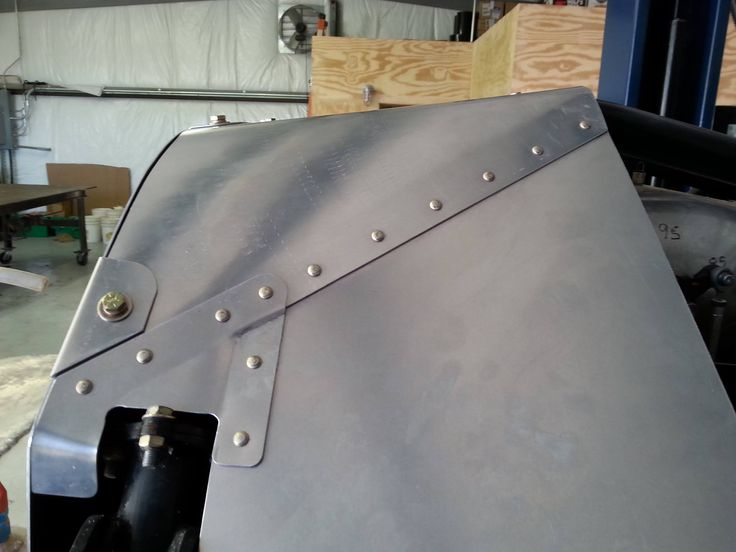bolt: (96, 288, 134, 326), (141, 399, 179, 424), (206, 110, 230, 129), (719, 265, 736, 290)
rivet: (212, 306, 233, 327), (244, 351, 265, 372), (74, 376, 95, 397), (231, 429, 252, 449), (135, 346, 154, 366), (369, 227, 388, 246), (305, 261, 324, 279), (257, 284, 275, 302), (479, 169, 497, 185), (577, 116, 593, 133), (528, 143, 544, 158), (426, 198, 443, 212)
